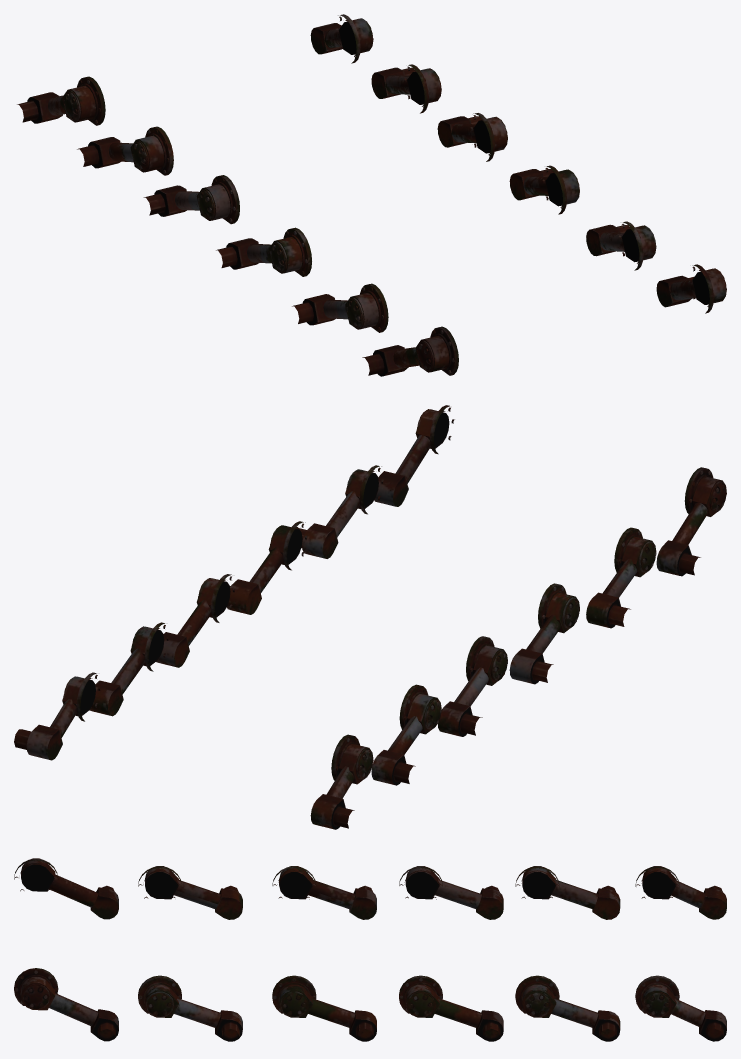
Rendered from wheels_misc.gltf.
The picture shows the model from 3 angles, top to bottom: view 1: azimuth 30°, elevation 25°; view 2: azimuth 150°, elevation 25°; view 3: azimuth 270°, elevation 25°; orthographic projection. The views are drawn at different scales.
Parts seen in each view (by area): view 1: wheels; view 2: wheels; view 3: wheels.
Part boxes in pixels (x1,y1,x2,y2): wheels: (17,14,726,376); wheels: (14,405,726,829); wheels: (14,858,726,1041).
Bounding box in the file's own units: 0.4348 × 0.0883 × 0.9152.
Materials: 1 (1 with a texture image).
